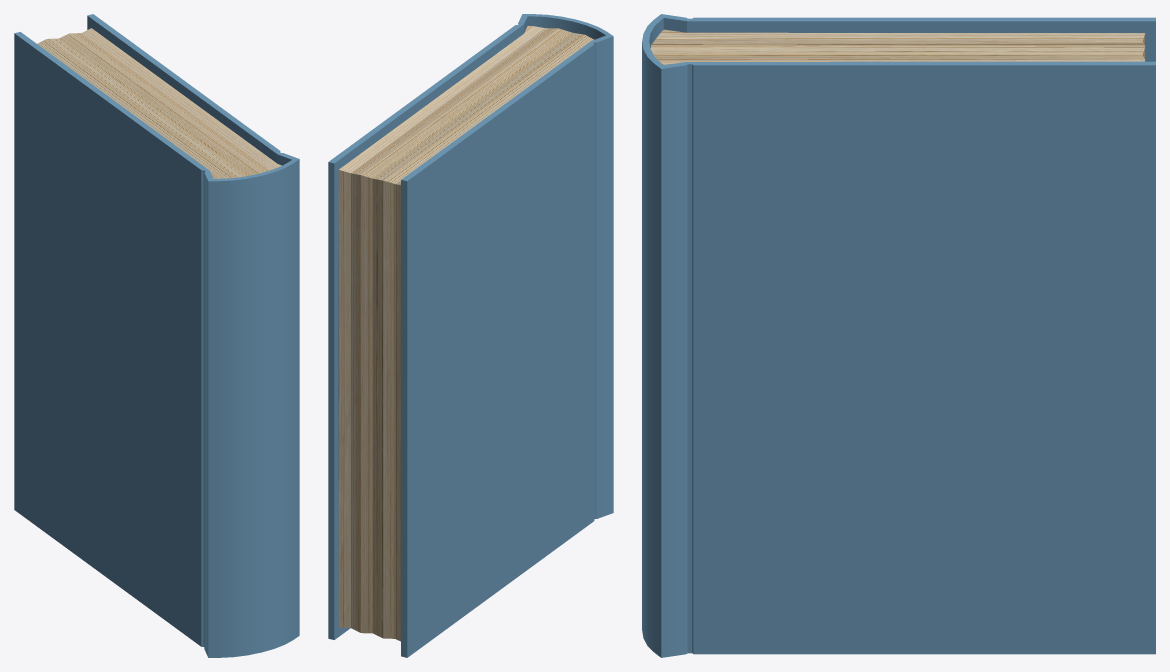
Rendered from Book v.1.fbx.
3 views of the same model, side by side, from view 1: azimuth 30°, elevation 25°; view 2: azimuth 150°, elevation 25°; view 3: azimuth 270°, elevation 25° (orthographic). The views are drawn at different scales.
Parts seen in each view (by area): view 1: Cube, Cube.001; view 2: Cube, Cube.001; view 3: Cube, Cube.001.
Part boxes in pixels (<box>): Cube: <box>14,14,299,657</box>; Cube.001: <box>37,28,281,178</box>; Cube: <box>328,14,613,657</box>; Cube.001: <box>338,26,593,641</box>; Cube: <box>642,14,1155,657</box>; Cube.001: <box>650,29,1145,64</box>.
Bounding box in the file's own units: 52.69 × 263 × 208.
